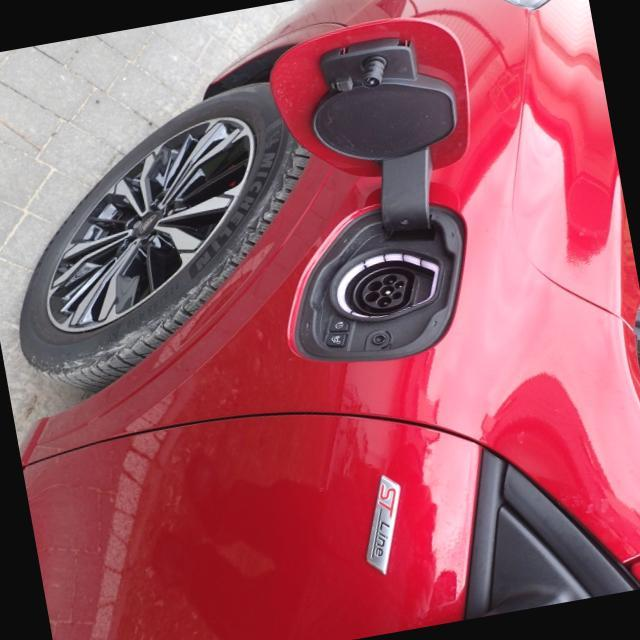Type 2: (333, 247, 436, 333)
